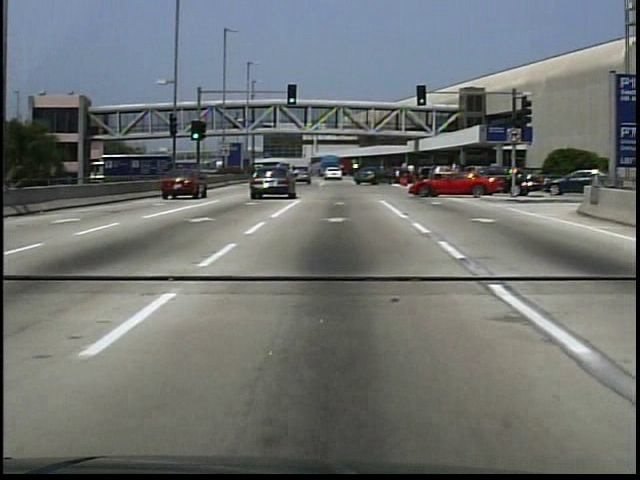person: (406, 162, 418, 185), (434, 165, 442, 181), (232, 118, 240, 133)
